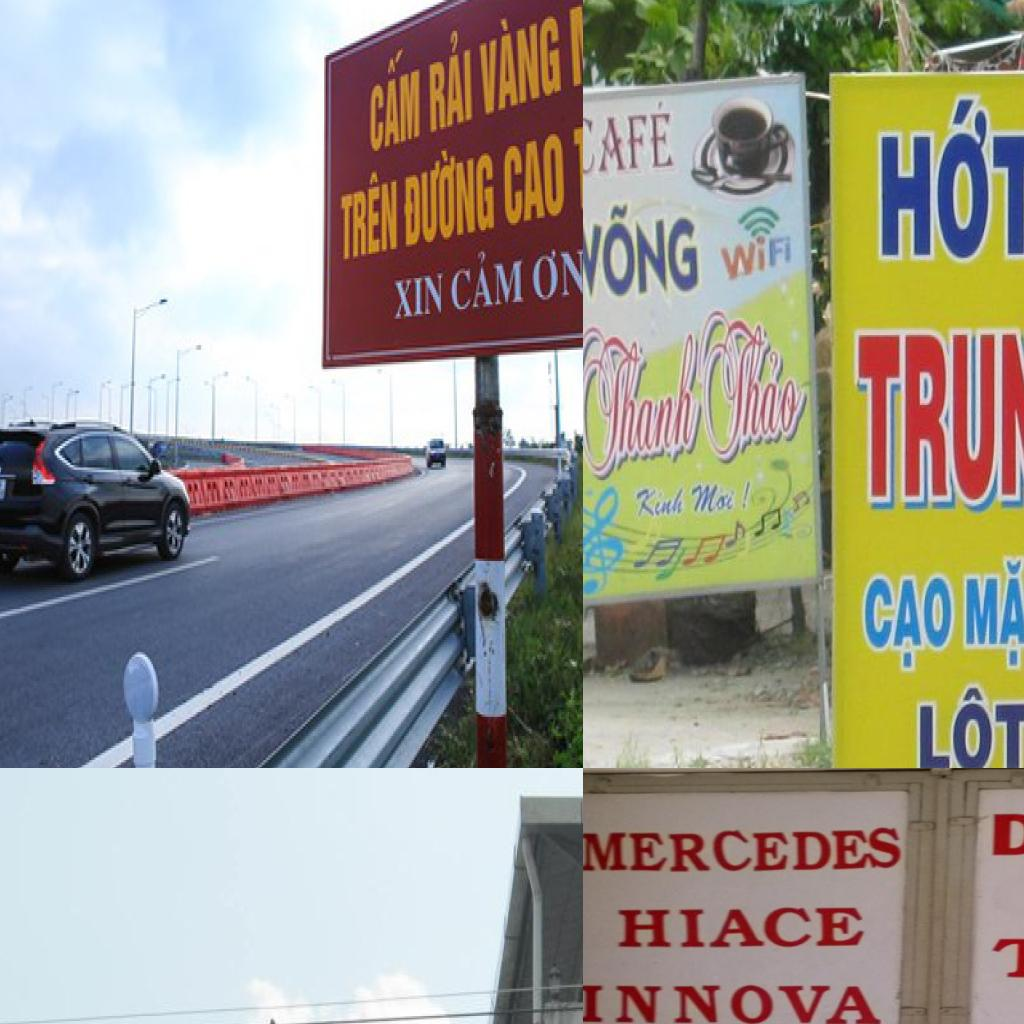text: (857, 323, 1024, 510), (877, 94, 1024, 259), (583, 325, 704, 483), (698, 310, 808, 472), (583, 824, 904, 874), (583, 982, 887, 1024), (583, 198, 702, 302), (614, 906, 869, 950), (401, 136, 497, 252), (473, 0, 564, 120), (862, 572, 956, 675), (916, 683, 1024, 768), (963, 555, 1024, 674), (583, 97, 675, 174), (502, 132, 567, 230), (368, 43, 424, 156), (337, 165, 398, 264), (426, 22, 474, 136), (450, 244, 526, 314), (720, 231, 792, 284), (529, 241, 583, 304), (393, 271, 446, 321), (634, 485, 687, 521), (691, 482, 738, 514), (742, 478, 755, 516)
